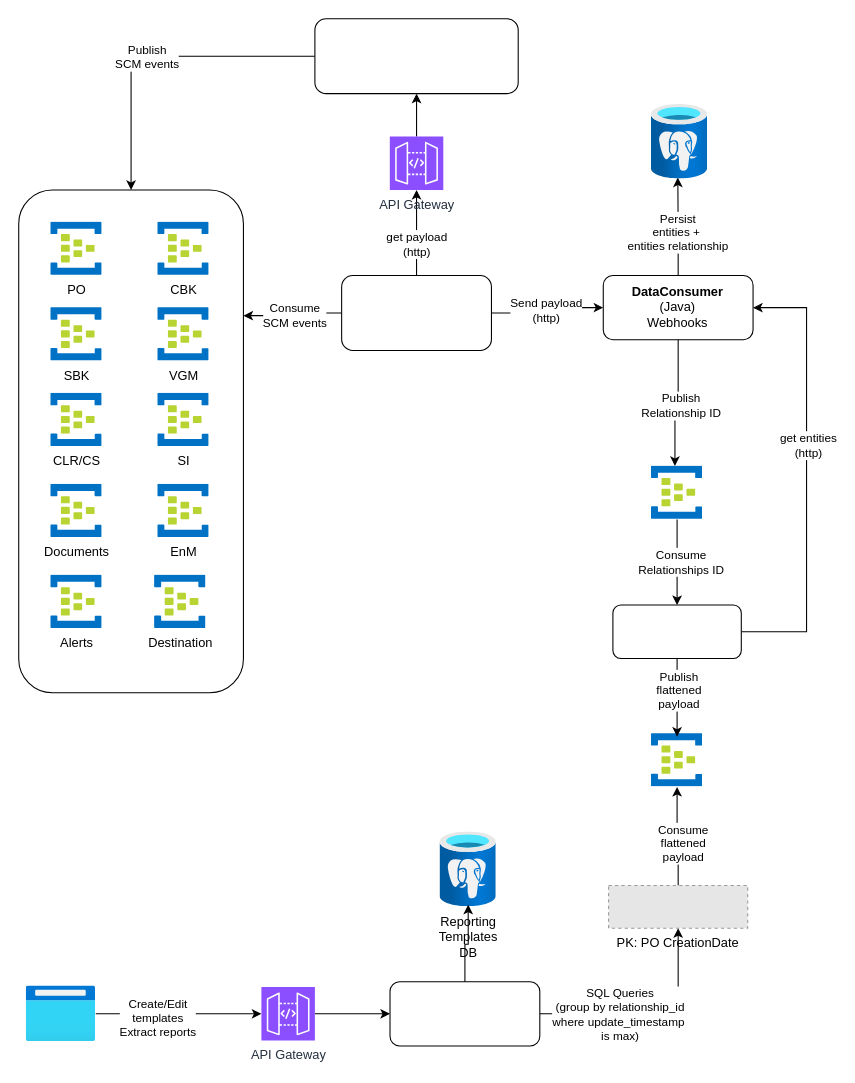
Some shapes in this 855 by 1083 pixel diagram are drawn without their labels. Grey dashed boxes stand in for pictures. Each missing label, with the centre of its shape:
Apache Nifi (flatten): (x=676, y=631)
Apache Nifi Call SCP Services Transform payload: (x=416, y=312)
ReportingAPI (Java) REST API: (x=464, y=1013)
SCP Systems Different Platform Services: (x=416, y=56)
UI: (x=60, y=1013)
